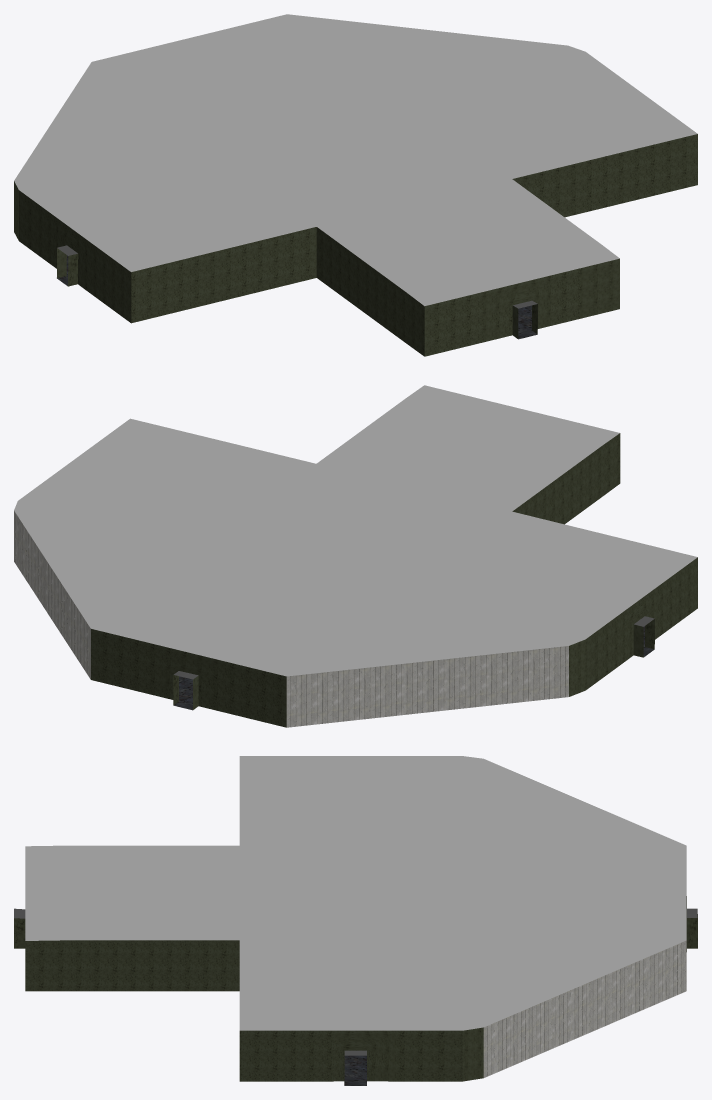
The model's file is Bio_Lab2.fbx.
3 views of the same model, one above another, from view 1: azimuth 30°, elevation 25°; view 2: azimuth 150°, elevation 25°; view 3: azimuth 270°, elevation 25° (orthographic).
Parts seen in each view (by area): view 1: Bio_Lab; view 2: Bio_Lab; view 3: Bio_Lab.
Part boxes in pixels (x1,y1,x2,y2): Bio_Lab: (14,14,697,356); Bio_Lab: (14,385,697,727); Bio_Lab: (14,756,697,1085).
Bounding box in the file's own units: 6000 × 503 × 6100.
